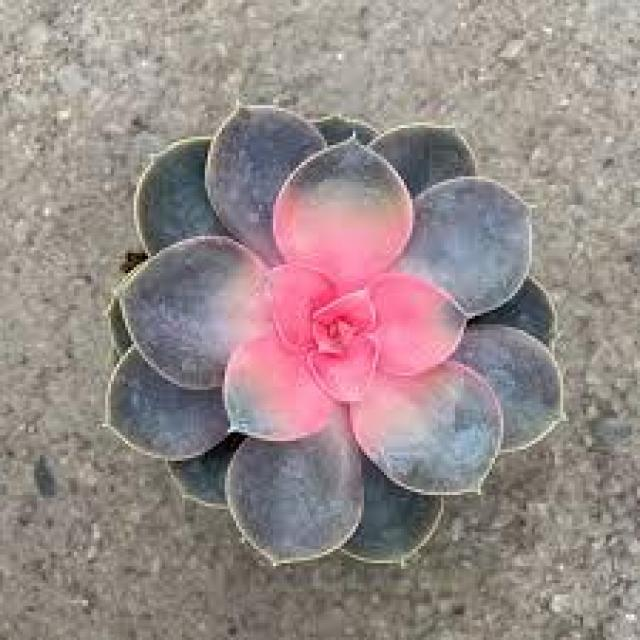organic waste: (113, 110, 574, 573)
